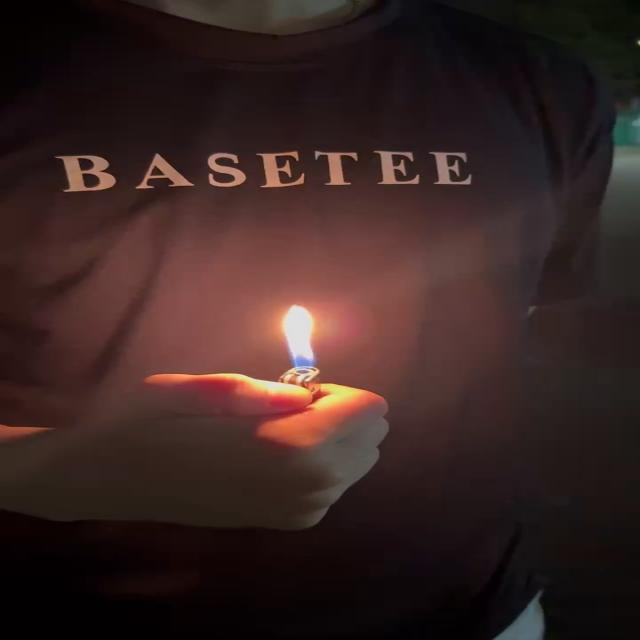Fire: (283, 300, 327, 378)
